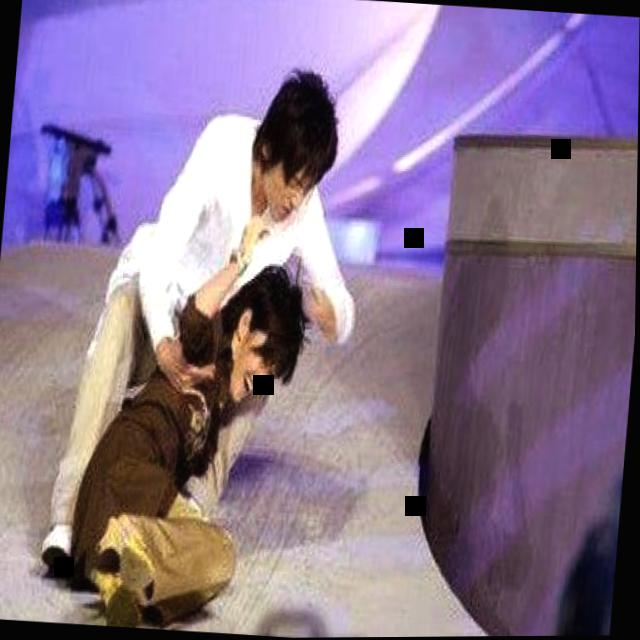Fall-Detected: (45, 233, 321, 632)
